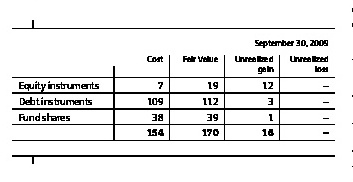table: (0, 0, 353, 182)
